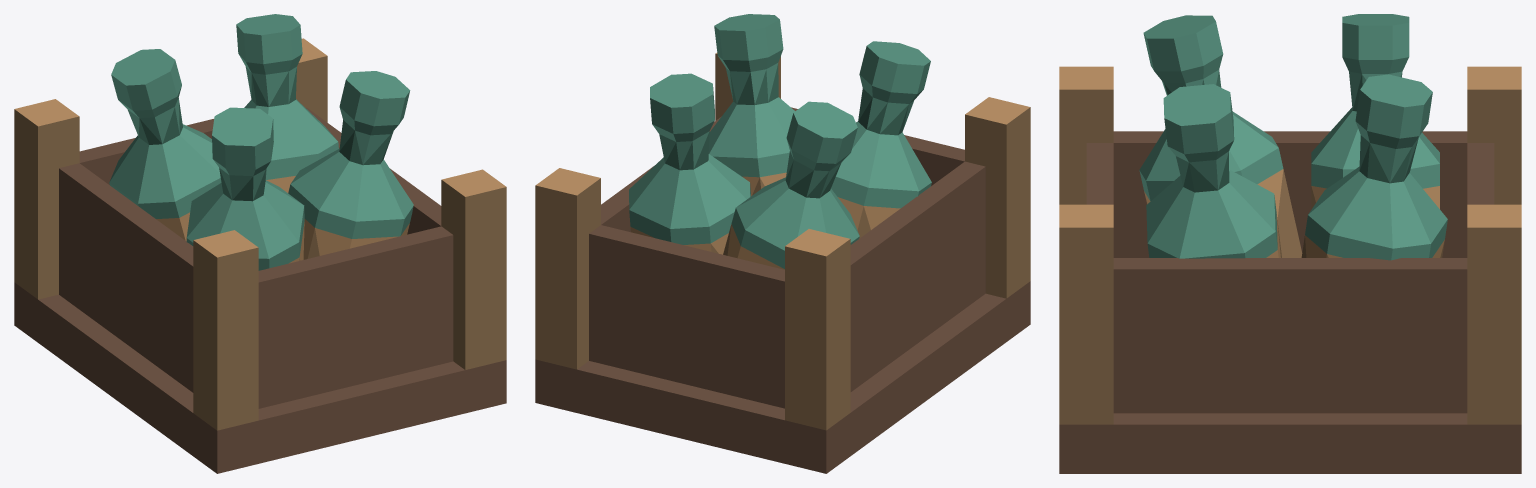
File: BotellasKenney.fbx
3 views of the same model, side by side, from view 1: azimuth 30°, elevation 25°; view 2: azimuth 150°, elevation 25°; view 3: azimuth 270°, elevation 25° (orthographic). The views are drawn at different scales.
Visible parts, largest first — view 1: Surf_WeatheredDark.003, Surf_Teal, Surf_WeatheredMid.003, Surf_WeatheredWood.003, Surf_BottleDark; view 2: Surf_WeatheredDark.003, Surf_Teal, Surf_WeatheredMid.003, Surf_WeatheredWood.003, Surf_BottleDark; view 3: Surf_WeatheredDark.003, Surf_Teal, Surf_WeatheredMid.003, Surf_WeatheredWood.003, Surf_BottleDark.
Boxes of the visible parts, x1,y1,x2,y2 form: Surf_WeatheredDark.003: (14,107,506,473); Surf_Teal: (109,14,413,270); Surf_WeatheredMid.003: (14,56,506,430); Surf_WeatheredWood.003: (14,38,506,263); Surf_BottleDark: (139,68,393,201); Surf_WeatheredDark.003: (535,107,1030,473); Surf_Teal: (629,14,931,268); Surf_WeatheredMid.003: (535,53,1030,430); Surf_WeatheredWood.003: (536,52,1029,269); Surf_BottleDark: (665,63,908,198); Surf_WeatheredDark.003: (1059,131,1521,473); Surf_Teal: (1139,14,1447,260); Surf_WeatheredMid.003: (1059,89,1521,424); Surf_WeatheredWood.003: (1059,66,1521,257); Surf_BottleDark: (1164,70,1418,192).
Size of the model in its own units: 1.08 by 1.06 by 1.31.
